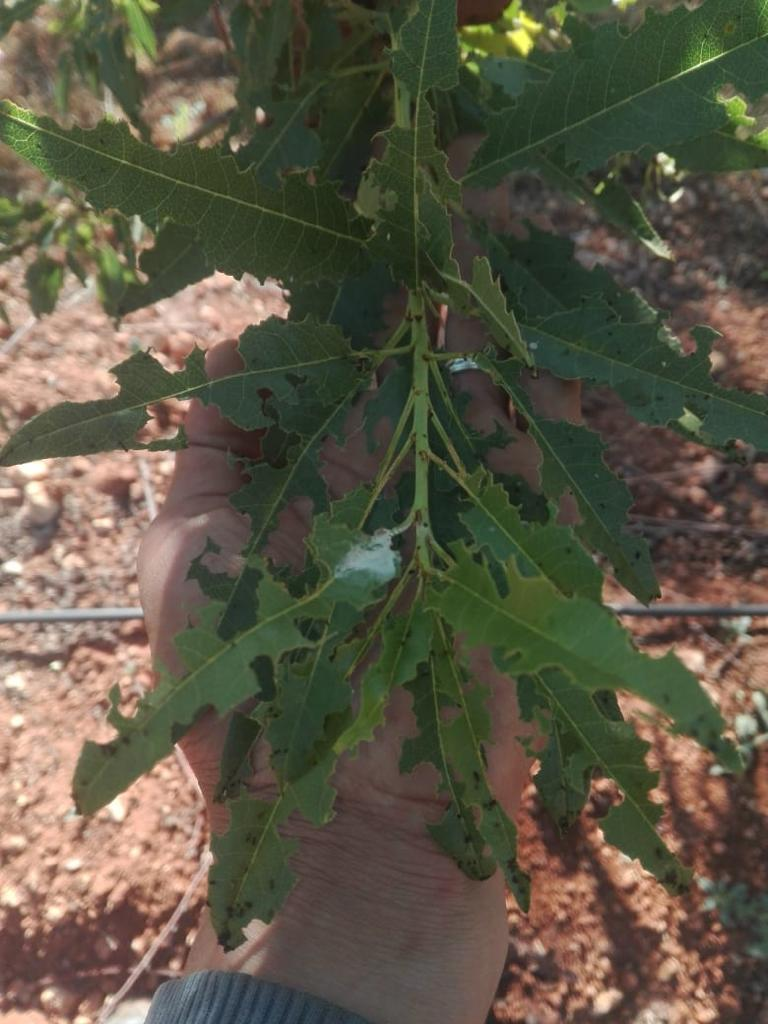othyorinques: (71, 518, 396, 818), (1, 94, 377, 285), (431, 548, 747, 772), (1, 313, 367, 469), (526, 298, 768, 450), (517, 401, 664, 607)
